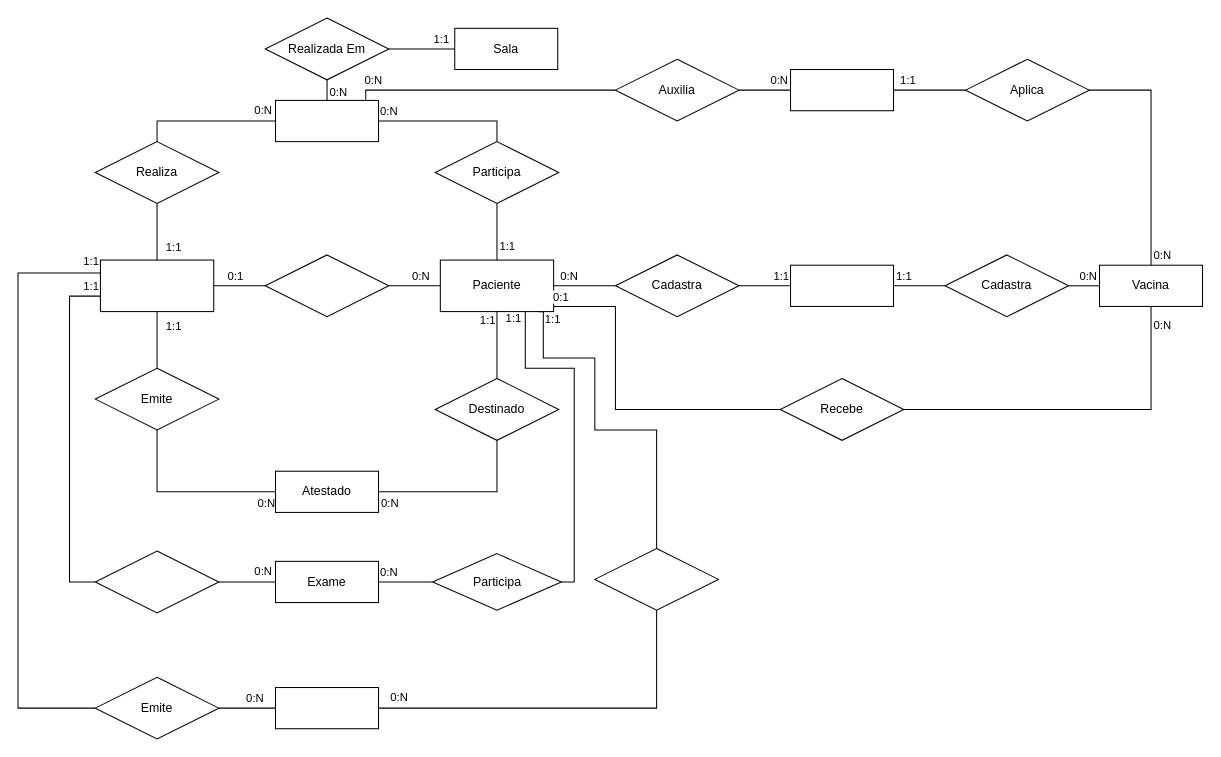
Image size: 1221x757. Some labels were removed from this diagram. Here are the shapes that lost their labels. From the top down, the centre of each, then its label:
At (841,89): "Enfermeiro".
At (326,120): "Consulta".
At (156,285): "Médico".
At (326,285): "Atende".
At (841,285): "Assistente".
At (156,581): "Solicita".
At (656,578): "Possui".
At (326,707): "Prontuário".
